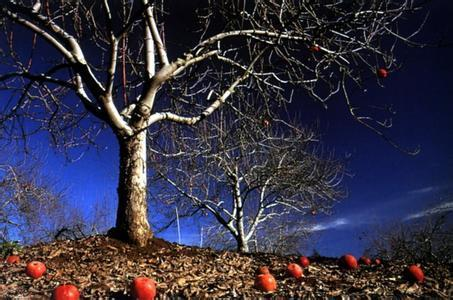apple: (132, 276, 156, 299), (407, 263, 423, 282)
